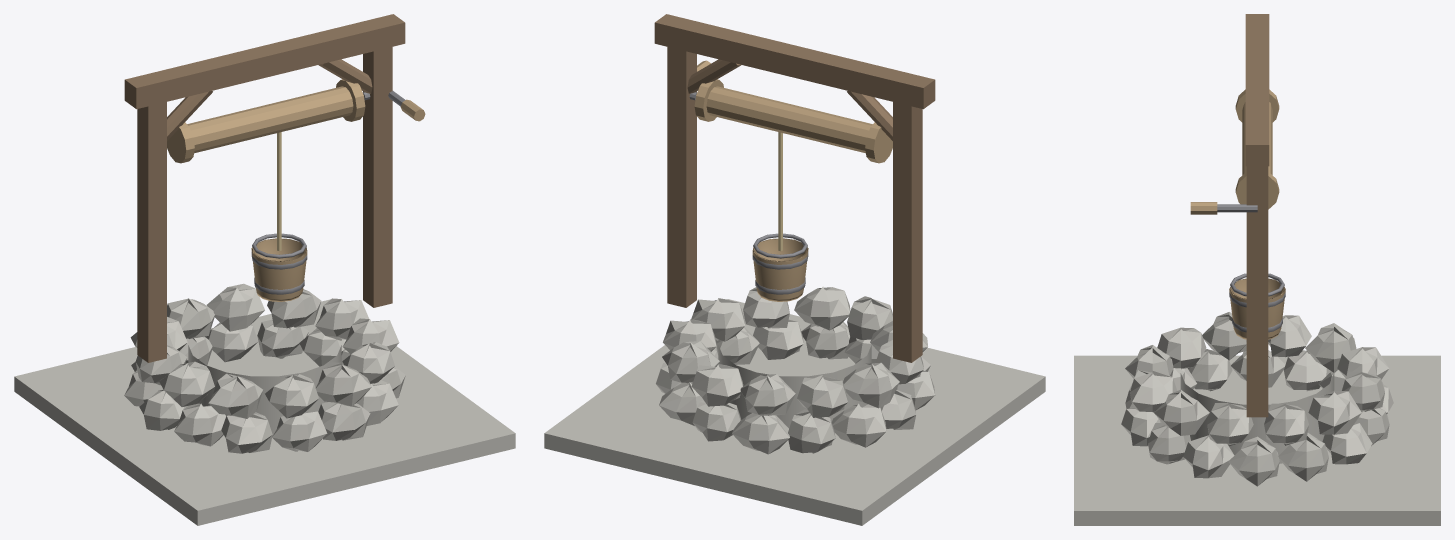
The model's file is korean-hanok-village-and-street-well-head-2795f6c1__38076.glb.
3 renders of one model, left to right at view 1: azimuth 30°, elevation 25°; view 2: azimuth 150°, elevation 25°; view 3: azimuth 270°, elevation 25°, orthographic.
Parts seen in each view (by area): view 1: well-head, windlass/wood; view 2: well-head, windlass/wood; view 3: well-head, windlass/wood.
Part boxes in pixels (x1,y1,x2,y2): well-head: [14, 14, 515, 525]; windlass/wood: [167, 79, 425, 163]; well-head: [544, 14, 1045, 525]; windlass/wood: [694, 60, 892, 163]; well-head: [1074, 14, 1440, 525]; windlass/wood: [1190, 89, 1279, 214].
Size of the model in its own units: 2.2 by 2.44 by 2.2.
